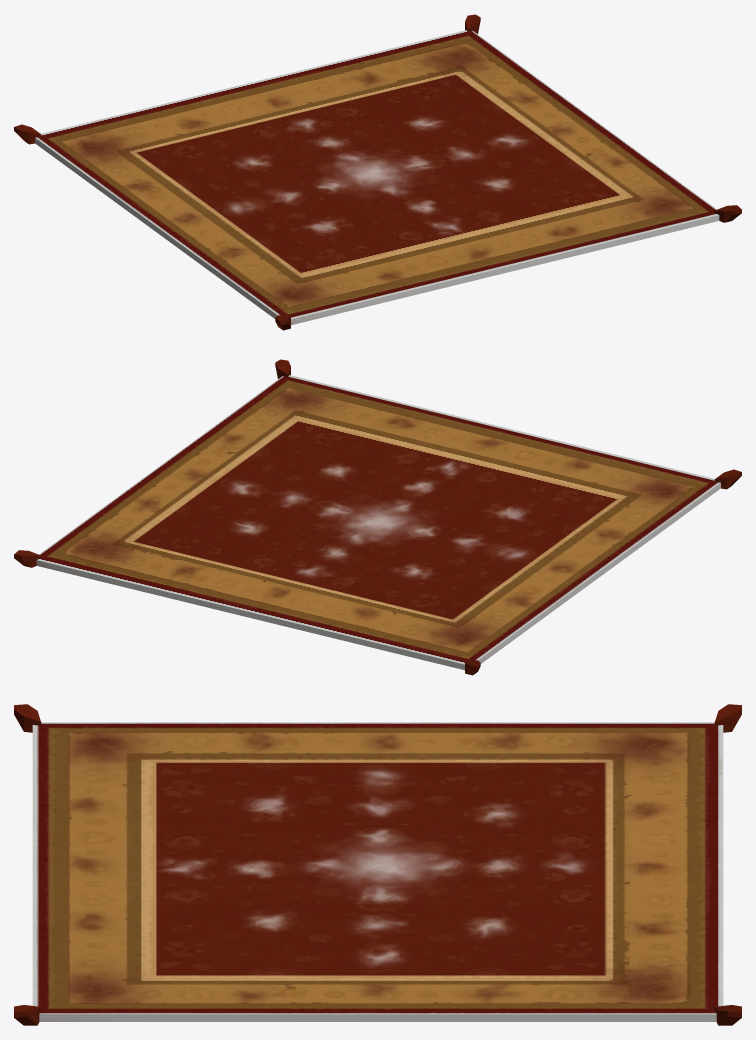
File: Carpet.fbx
3 views of the same model, one above another, from view 1: azimuth 30°, elevation 25°; view 2: azimuth 150°, elevation 25°; view 3: azimuth 270°, elevation 25° (orthographic). The views are drawn at different scales.
Visible parts, largest first — view 1: Carpet, CarpetCorner; view 2: Carpet, CarpetCorner; view 3: Carpet, CarpetCorner.
Part boxes in pixels (bbox=[...]): Carpet: bbox=[35, 30, 719, 325]; CarpetCorner: bbox=[14, 14, 741, 330]; Carpet: bbox=[36, 375, 720, 670]; CarpetCorner: bbox=[14, 359, 741, 675]; Carpet: bbox=[32, 722, 723, 1021]; CarpetCorner: bbox=[14, 704, 741, 1025].
Size of the model in its own units: 421 by 11.61 by 421.
2 materials, 2 textured.
